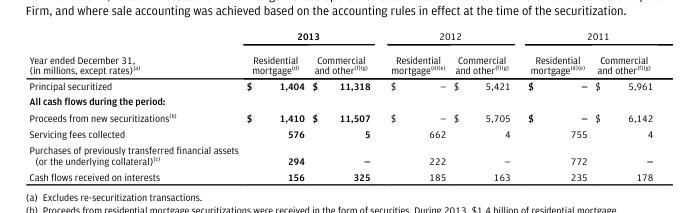table: (28, 28, 652, 182)
table column: (28, 28, 241, 182), (307, 28, 379, 182), (518, 28, 590, 182), (379, 28, 449, 182), (449, 28, 518, 182), (241, 28, 307, 182), (590, 28, 652, 182)
table column header: (28, 28, 652, 77)
table projected row header: (28, 93, 652, 108)
table row: (28, 46, 652, 77), (28, 141, 652, 168), (28, 28, 652, 46), (28, 108, 652, 125), (28, 77, 652, 93), (28, 125, 652, 141), (28, 93, 652, 108), (28, 168, 652, 182)
table spanning cell: (28, 28, 241, 77), (379, 28, 518, 46), (241, 28, 379, 46), (518, 28, 652, 46)
